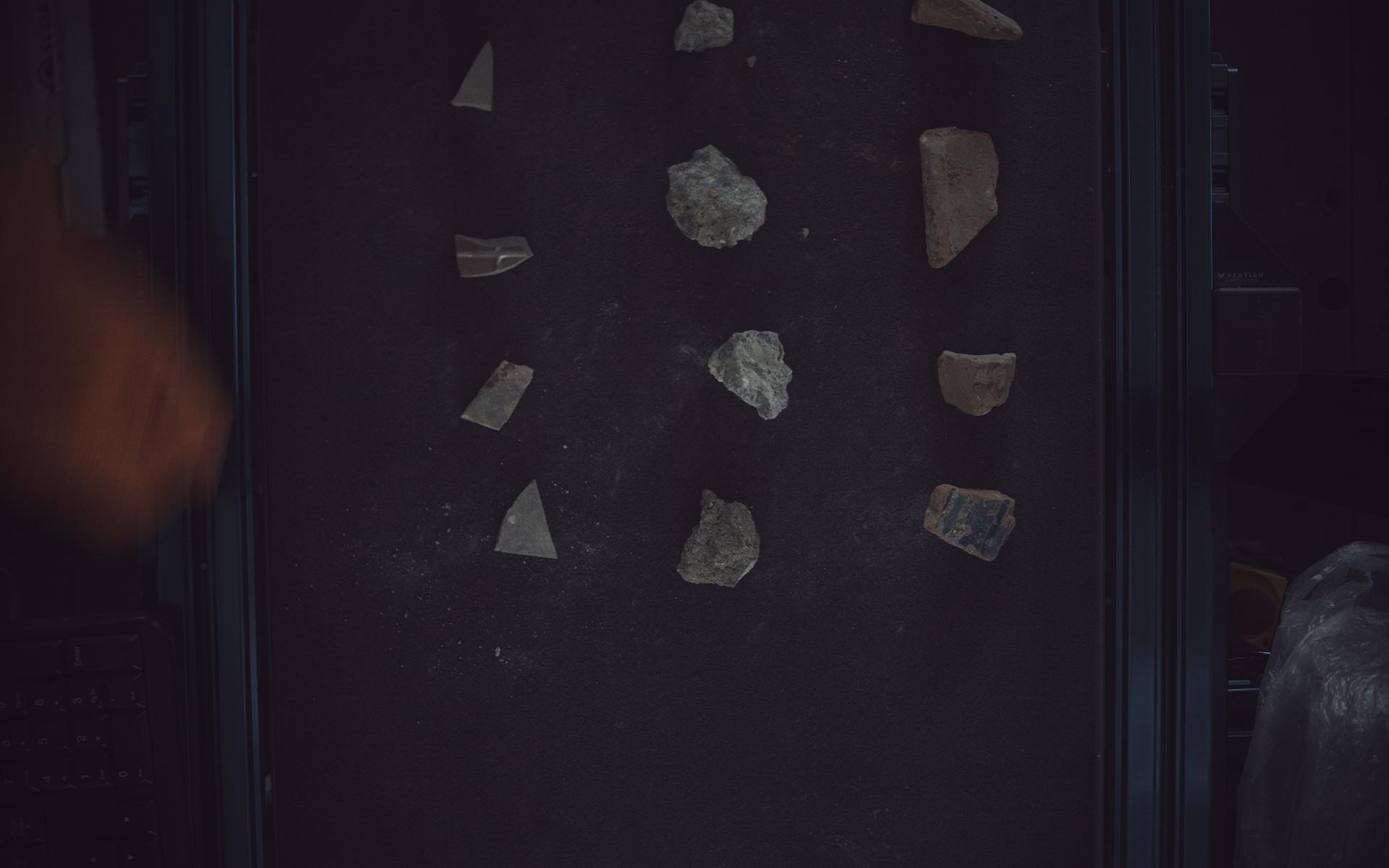brick: (922, 126, 1001, 268), (927, 484, 1017, 561), (940, 351, 1018, 417), (913, 1, 1025, 39)
concrete: (668, 144, 768, 247), (679, 490, 761, 587), (710, 330, 794, 420), (676, 1, 735, 51)
tile: (462, 361, 534, 430), (495, 480, 557, 559), (454, 234, 533, 277), (451, 41, 493, 110)
